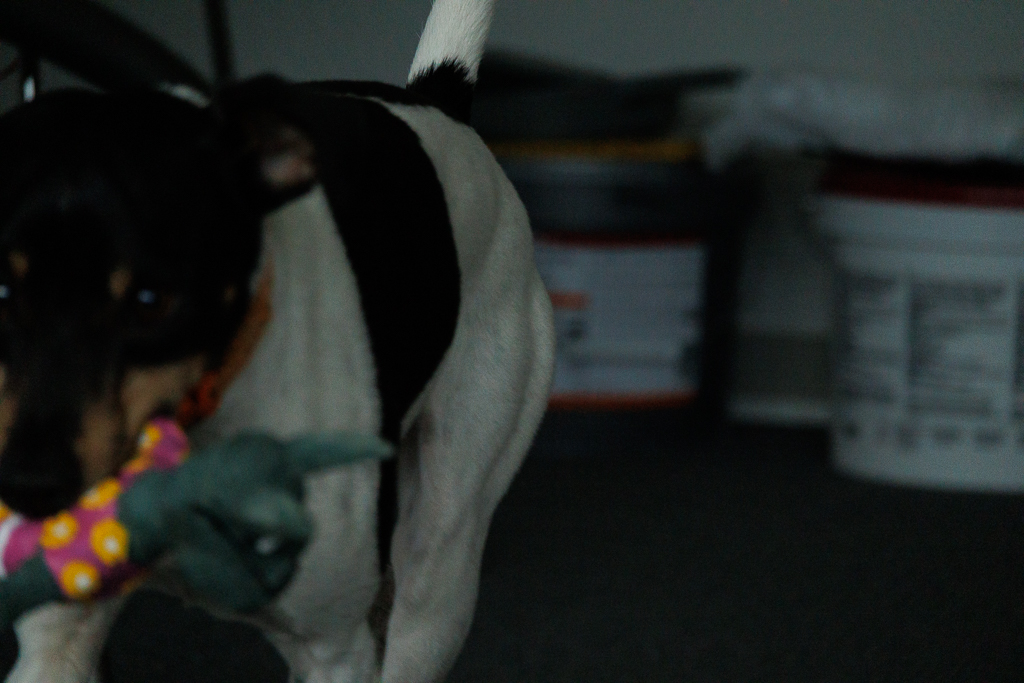Dog: (0, 0, 574, 683)
Humanoid: (0, 395, 427, 681)
